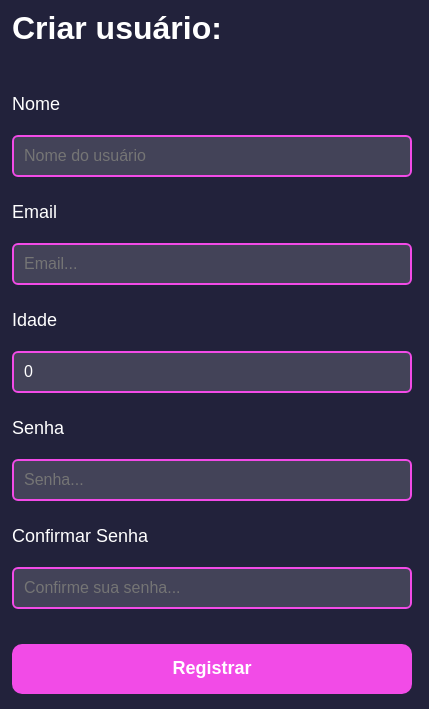
Componente RegisterForm › mostrar mensagem de erro para nome inválido
Type "Yan" into the field with test id "name-input" at x=212, y=156, box left=12, top=135, right=412, bottom=177
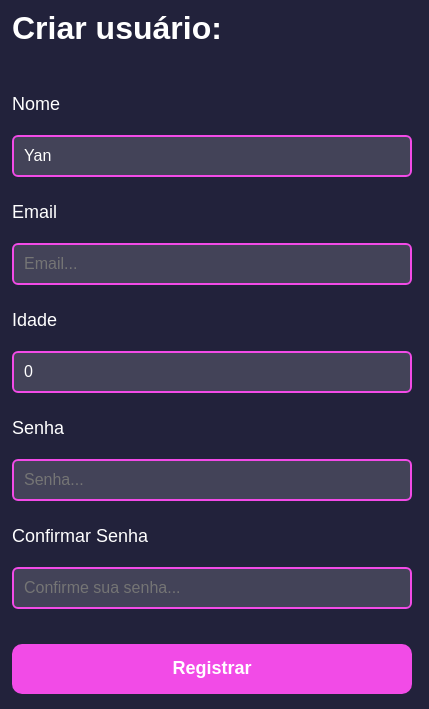
Click the button with test id "submit-button" at x=212, y=669, box left=12, top=644, right=412, bottom=694
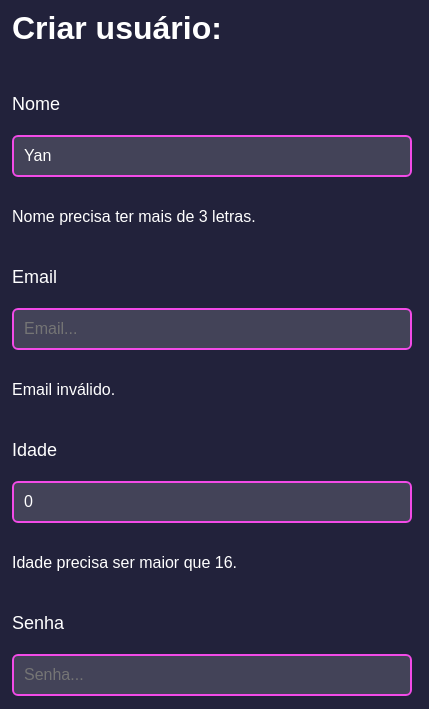
Now the text with test id "error-name" shows "Nome precisa ter mais de 3 letras", box left=12, top=208, right=256, bottom=225
